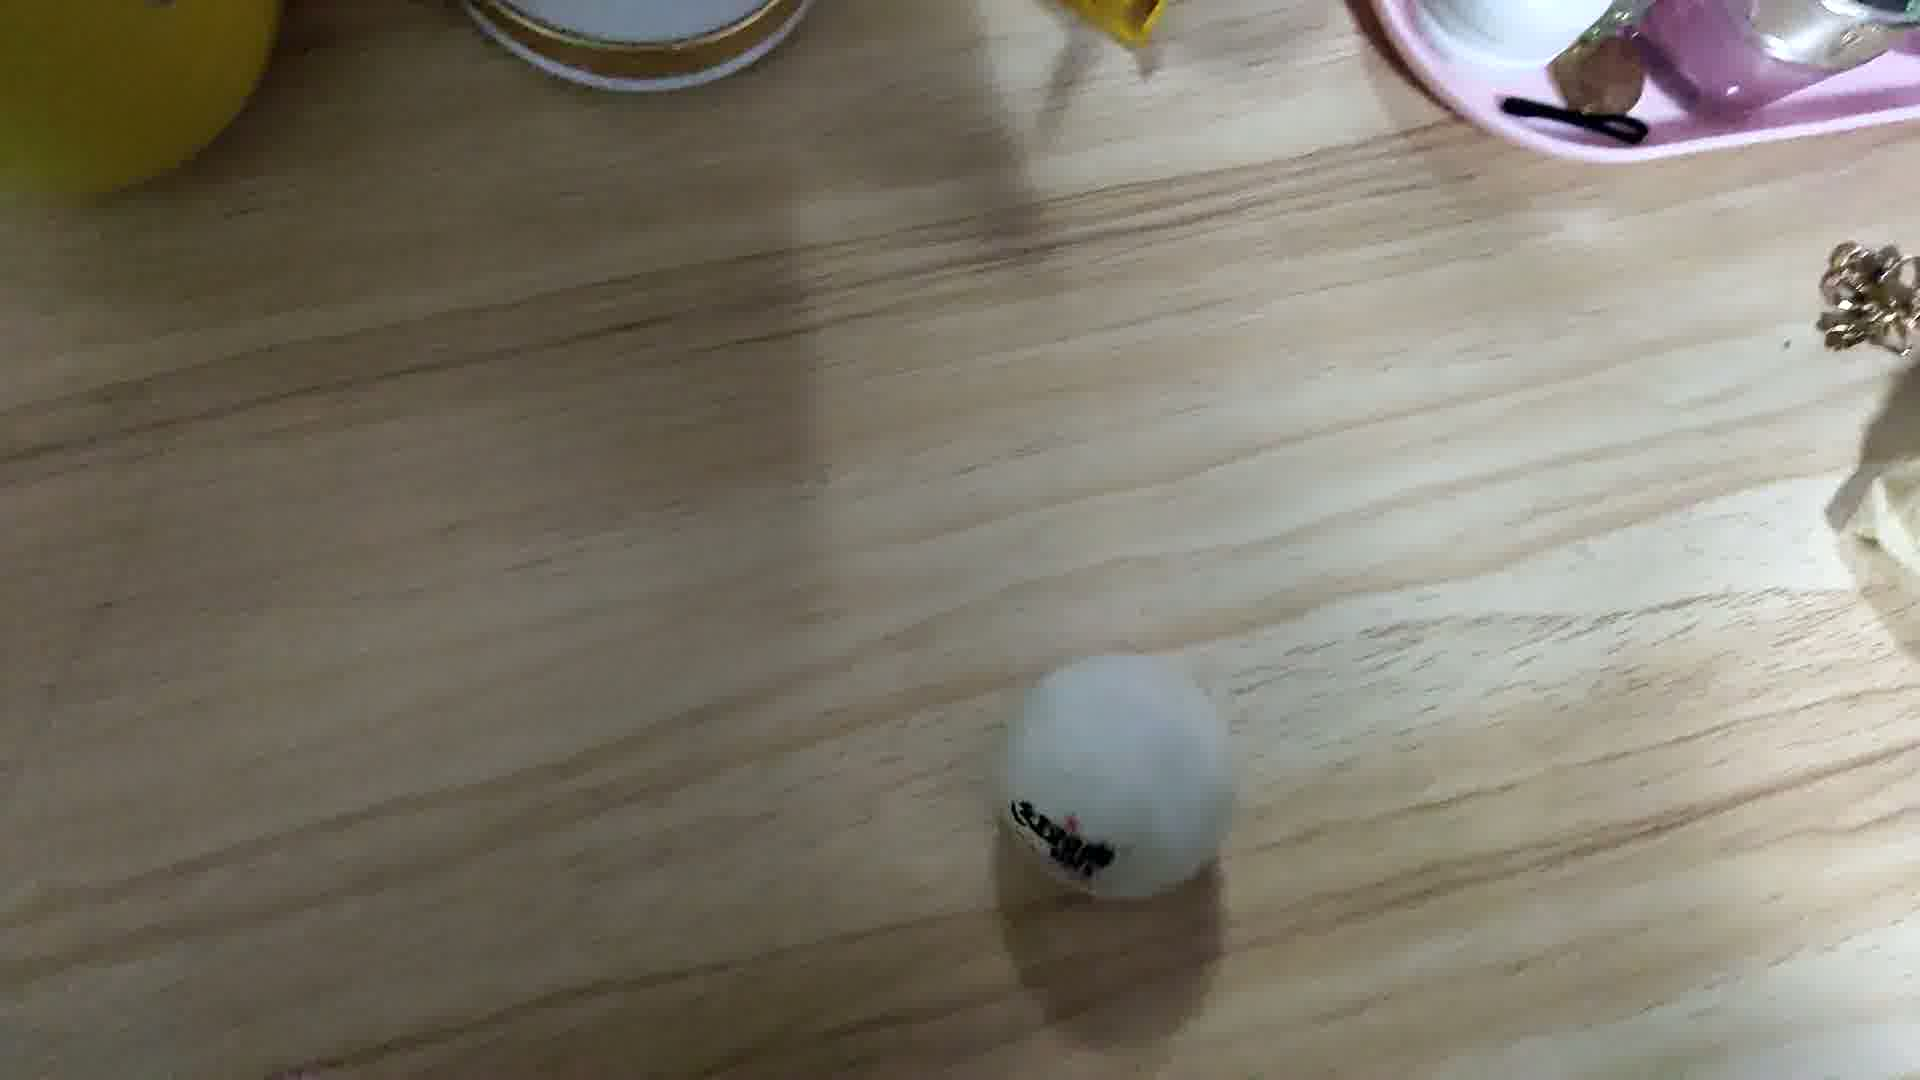Ball: (1001, 653, 1244, 898)
